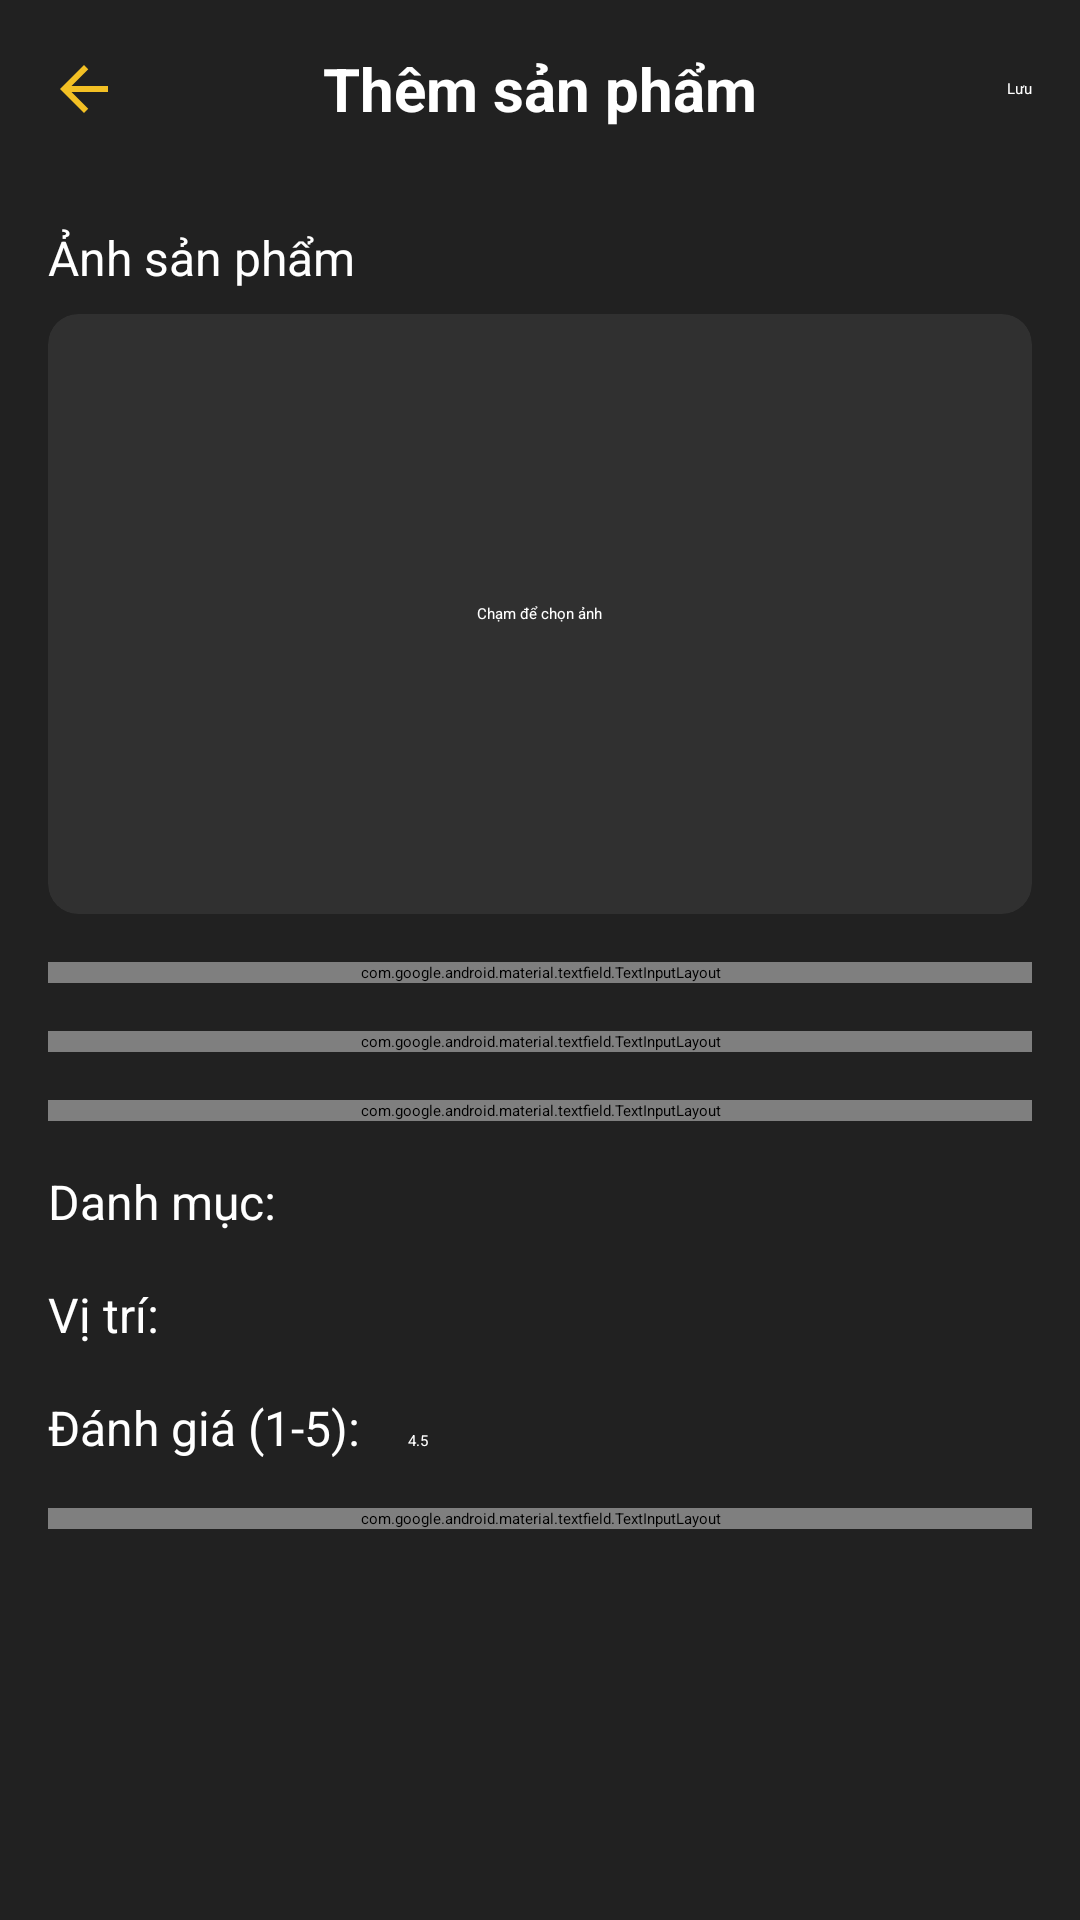

Named icons in this screenshot (1080w x 1920h) and their centers, (x,y):
arrow back: (84,89)
